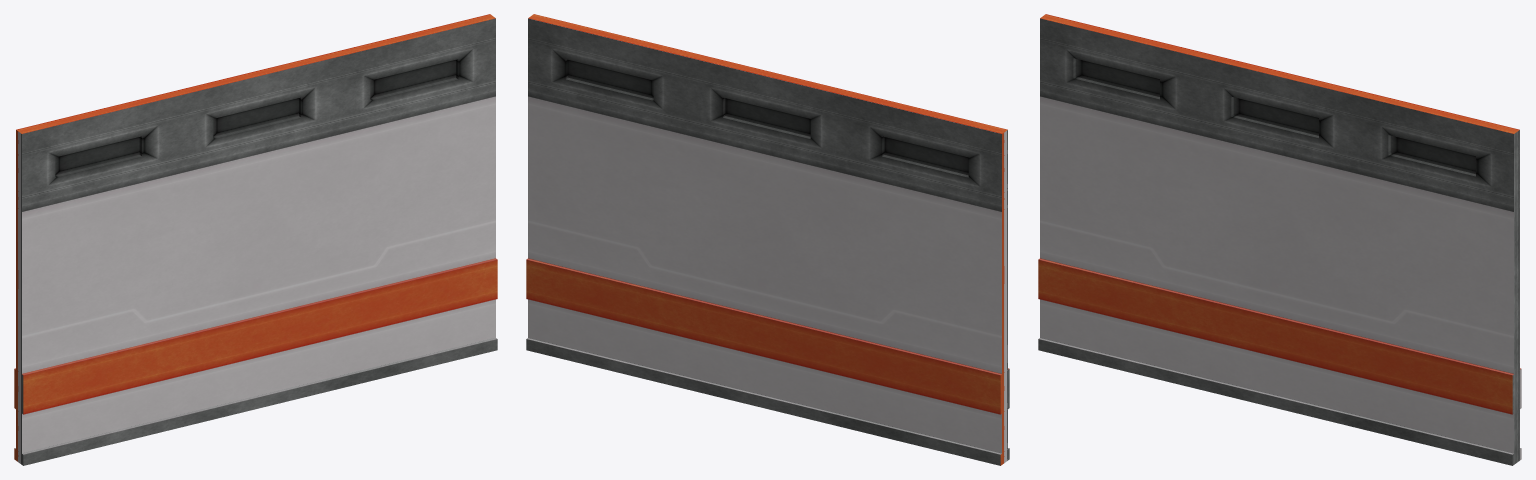
Rendered from Sci-Fi Walls Final send.fbx.
3 renders of one model, left to right at view 1: azimuth 30°, elevation 25°; view 2: azimuth 150°, elevation 25°; view 3: azimuth 330°, elevation 25°, orthographic.
Visible parts, largest first — view 1: Wall 2_Final; view 2: Wall 2_Final; view 3: Wall 2_Final.
Part boxes in pixels (bbox=[...]): Wall 2_Final: bbox=[14, 14, 497, 465]; Wall 2_Final: bbox=[526, 14, 1009, 465]; Wall 2_Final: bbox=[1038, 14, 1521, 465].
Bounding box in the file's own units: 600 × 400 × 20.
Materials: 1 (1 with a texture image).
